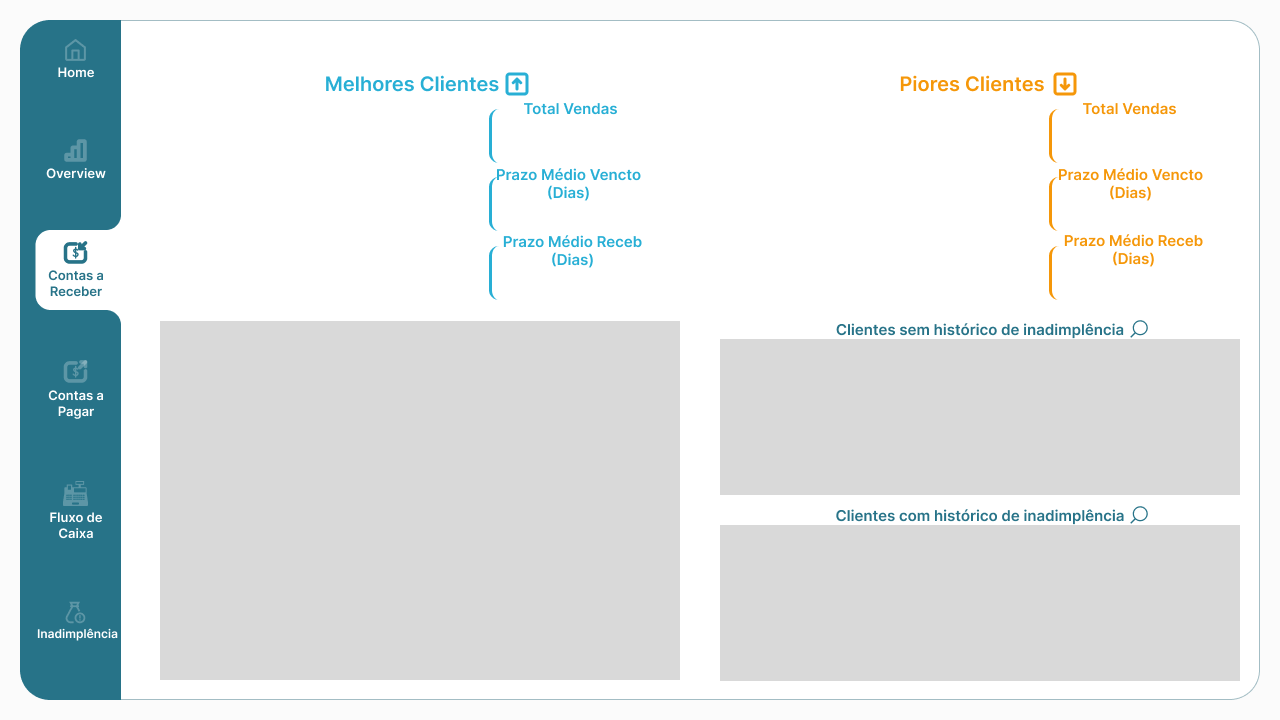

What the dashboard file says about the page in this screenshot:
{"tool":"powerbi","page":{"name":"Contas a Receber","canvas":[1280,720],"ordinal":2},"visuals":[{"type":"card","fields":{"Values":["fTitulos.Soma"]},"box":[490,118,156,37],"z":0},{"type":"tableEx","fields":{"Values":["dTerceiro.RazaoSocial","fTitulos.Valor"]},"box":[155.7,105.7,324.3,197.1],"z":1000},{"type":"card","fields":{"Values":["fTitulos.MediaPgt"]},"box":[494,264,156,39],"z":2000},{"type":"card","fields":{"Values":["fTitulos.MediaVencto"]},"box":[490,194,156,39],"z":3000},{"type":"tableEx","fields":{"Values":["dTerceiro.RazaoSocial","Sum(fTitulos.Valor)"]},"box":[720,105,324,197],"z":4000},{"type":"actionButton","box":[40,31.4,70,52.1],"z":5000},{"type":"actionButton","box":[40,125.7,70,67.1],"z":6000},{"type":"actionButton","box":[40,355,70,67.9],"z":7000},{"type":"actionButton","box":[40,474.3,70,67.9],"z":8000},{"type":"actionButton","box":[27.9,588.6,92.1,67.9],"z":9000},{"type":"card","fields":{"Values":["fTitulos.Soma"]},"box":[1055,119,156,37],"z":12000},{"type":"card","fields":{"Values":["fTitulos.MediaPgt"]},"box":[1059,265,156,39],"z":13000},{"type":"card","fields":{"Values":["fTitulos.MediaVencto"]},"box":[1055,195,156,39],"z":14000},{"type":"tableEx","fields":{"Values":["fTitulos.NumDoc","dTerceiro.RazaoSocial","Sum(fTitulos.TempoAtrasso)","fTitulos.Valor","fTitulos.StatusTitulo"]},"box":[155.1,318.4,528.3,360.9],"z":15000},{"type":"tableEx","fields":{"Values":["dTerceiro.RazaoSocial","fTitulos.Valor","fTitulos.MediaPgt","fTitulos.MediaVencto"]},"box":[720,339.4,527.5,153.8],"z":16000},{"type":"tableEx","fields":{"Values":["dTerceiro.RazaoSocial","Sum(fTitulos.TempoAtrasso)","fTitulos.Valor","fTitulos.MediaPgt","fTitulos.MediaVencto"]},"box":[720,525,527.5,153.8],"z":17000},{"type":"actionButton","box":[1126.2,500.6,26.2,24.4],"z":18000},{"type":"actionButton","box":[1126.2,315.6,26.2,24.4],"z":19000},{"type":"actionButton","title":"Botão_Filtro","box":[1138.8,26.2,105,40],"z":19250}]}

Visuals, with their boxes on the page's 1280x720 design canvas (x1, y1, x2, y2). These are canvas units, not pixel positions in the 1280x720 screenshot, which may show the page scaled, cropped or inside an application window:
card - fTitulos.Soma: select_region(490, 118, 646, 155)
tableEx - dTerceiro.RazaoSocial x fTitulos.Valor: select_region(156, 106, 480, 303)
card - fTitulos.MediaPgt: select_region(494, 264, 650, 303)
card - fTitulos.MediaVencto: select_region(490, 194, 646, 233)
tableEx - dTerceiro.RazaoSocial x Sum(fTitulos.Valor): select_region(720, 105, 1044, 302)
actionButton: select_region(40, 31, 110, 84)
actionButton: select_region(40, 126, 110, 193)
actionButton: select_region(40, 355, 110, 423)
actionButton: select_region(40, 474, 110, 542)
actionButton: select_region(28, 589, 120, 656)
card - fTitulos.Soma: select_region(1055, 119, 1211, 156)
card - fTitulos.MediaPgt: select_region(1059, 265, 1215, 304)
card - fTitulos.MediaVencto: select_region(1055, 195, 1211, 234)
tableEx - fTitulos.NumDoc x dTerceiro.RazaoSocial: select_region(155, 318, 683, 679)
tableEx - dTerceiro.RazaoSocial x fTitulos.Valor: select_region(720, 339, 1248, 493)
tableEx - dTerceiro.RazaoSocial x Sum(fTitulos.TempoAtrasso): select_region(720, 525, 1248, 679)
actionButton: select_region(1126, 501, 1152, 525)
actionButton: select_region(1126, 316, 1152, 340)
"Botão_Filtro" actionButton: select_region(1139, 26, 1244, 66)
